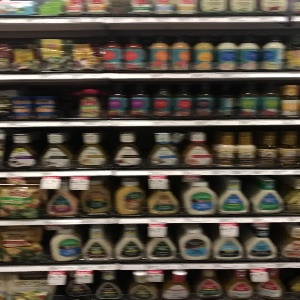void: (54, 77, 78, 121)
